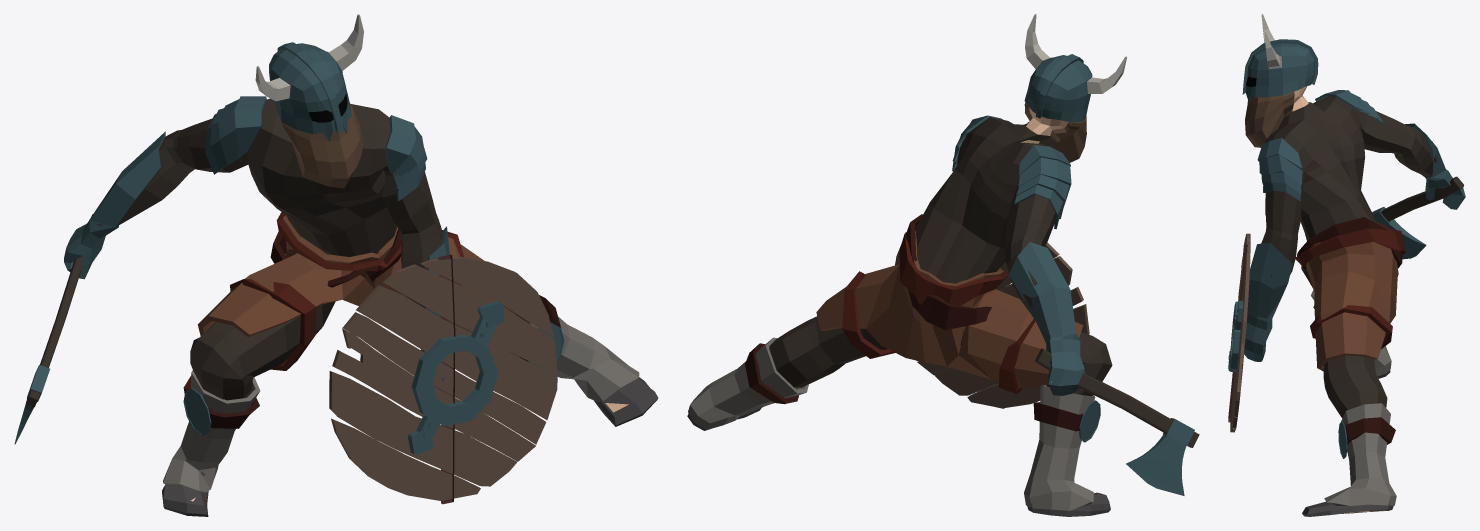
3 renders of one model, left to right at view 1: azimuth 30°, elevation 25°; view 2: azimuth 150°, elevation 25°; view 3: azimuth 270°, elevation 25°, orthographic. The views are drawn at different scales.
Visible parts, largest first — view 1: shield_47, shuba_10, leather armor_3, valnki_12, shlem_9, naplechniki_4, gloves_2, beard_0, boots_1, valenok remen_11, poyas2_8, Cube_48 (+2 smaller); view 2: shuba_10, leather armor_3, valnki_12, gloves_2, shlem_9, Cube_48, shield_47, naplechniki_4, valenok remen_11, poyas2_8, poyas1_6, poyas1.001_7 (+3 smaller); view 3: shuba_10, leather armor_3, gloves_2, valnki_12, shlem_9, naplechniki_4, shield_47, beard_0, Cube_48, poyas1_6, valenok remen_11, poyas1.001_7 (+3 smaller).
Boxes of the visible parts, <box> form: shield_47: <box>329,254,557,504</box>; shuba_10: <box>97,98,529,400</box>; leather armor_3: <box>197,214,487,336</box>; valnki_12: <box>163,316,639,492</box>; shlem_9: <box>255,14,363,141</box>; naplechniki_4: <box>205,96,427,201</box>; gloves_2: <box>64,131,449,390</box>; beard_0: <box>281,103,363,188</box>; boots_1: <box>162,377,658,516</box>; valenok remen_11: <box>183,295,564,436</box>; poyas2_8: <box>230,230,463,370</box>; Cube_48: <box>14,214,92,444</box>; shuba_10: <box>769,117,1112,396</box>; leather armor_3: <box>816,231,1083,388</box>; valnki_12: <box>688,337,1095,510</box>; gloves_2: <box>1009,242,1084,395</box>; shlem_9: <box>1024,14,1126,121</box>; Cube_48: <box>1035,348,1199,495</box>; shield_47: <box>895,242,1089,408</box>; naplechniki_4: <box>952,115,1071,229</box>; valenok remen_11: <box>745,343,1100,442</box>; poyas2_8: <box>842,271,1035,393</box>; poyas1_6: <box>899,232,1007,305</box>; poyas1.001_7: <box>905,214,991,330</box>; shuba_10: <box>1261,96,1437,418</box>; leather armor_3: <box>1306,242,1398,371</box>; gloves_2: <box>1244,123,1465,361</box>; valnki_12: <box>1311,289,1396,505</box>; shlem_9: <box>1242,14,1318,103</box>; naplechniki_4: <box>1257,90,1383,201</box>; shield_47: <box>1228,233,1250,432</box>; beard_0: <box>1245,91,1294,147</box>; Cube_48: <box>1372,176,1463,259</box>; poyas1_6: <box>1295,222,1405,267</box>; valenok remen_11: <box>1313,305,1395,458</box>; poyas1.001_7: <box>1297,217,1402,268</box>.
Bounding box in the file's own units: 1.94 × 1.59 × 0.9034.
